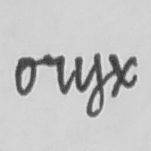o: (12, 54, 37, 98)
r: (38, 51, 67, 97)
x: (107, 51, 139, 99)
y: (71, 51, 106, 118)
